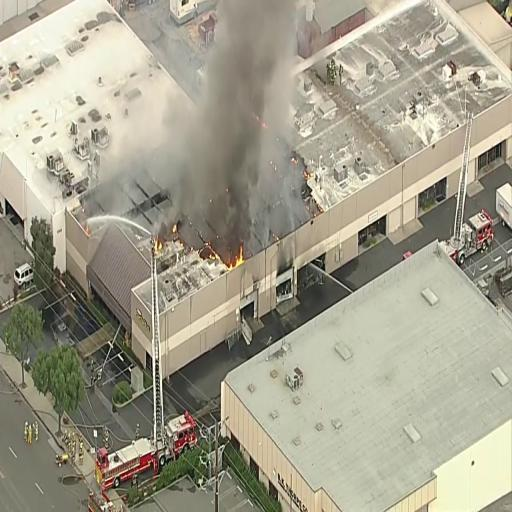smoke: (214, 0, 297, 208)
